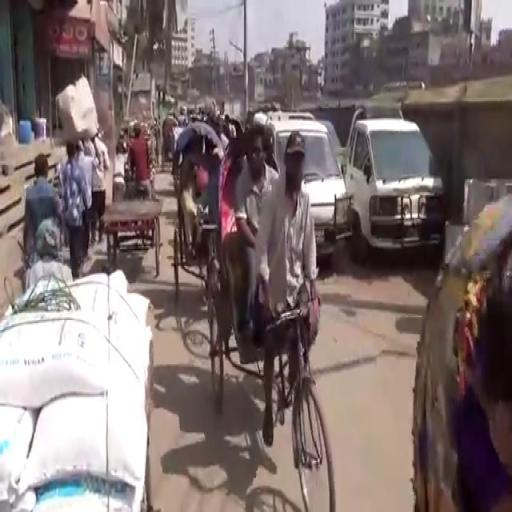pickup: (345, 99, 447, 273), (262, 106, 352, 270)
rickshaw: (204, 121, 340, 512), (170, 122, 225, 307), (162, 114, 180, 171)
wheelbarrow: (95, 185, 165, 278)
